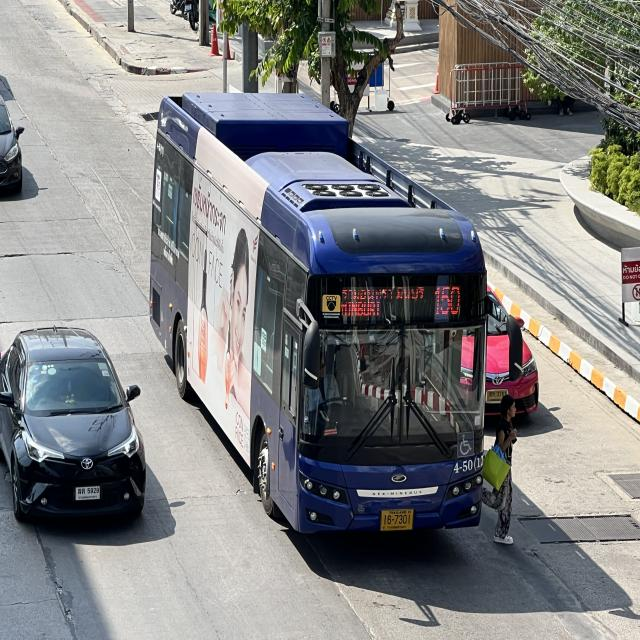Bus-Line-Number: (430, 280, 466, 320)
Destination-Sign-Normal: (337, 281, 429, 325)
TSB-Bus: (148, 92, 487, 538)
